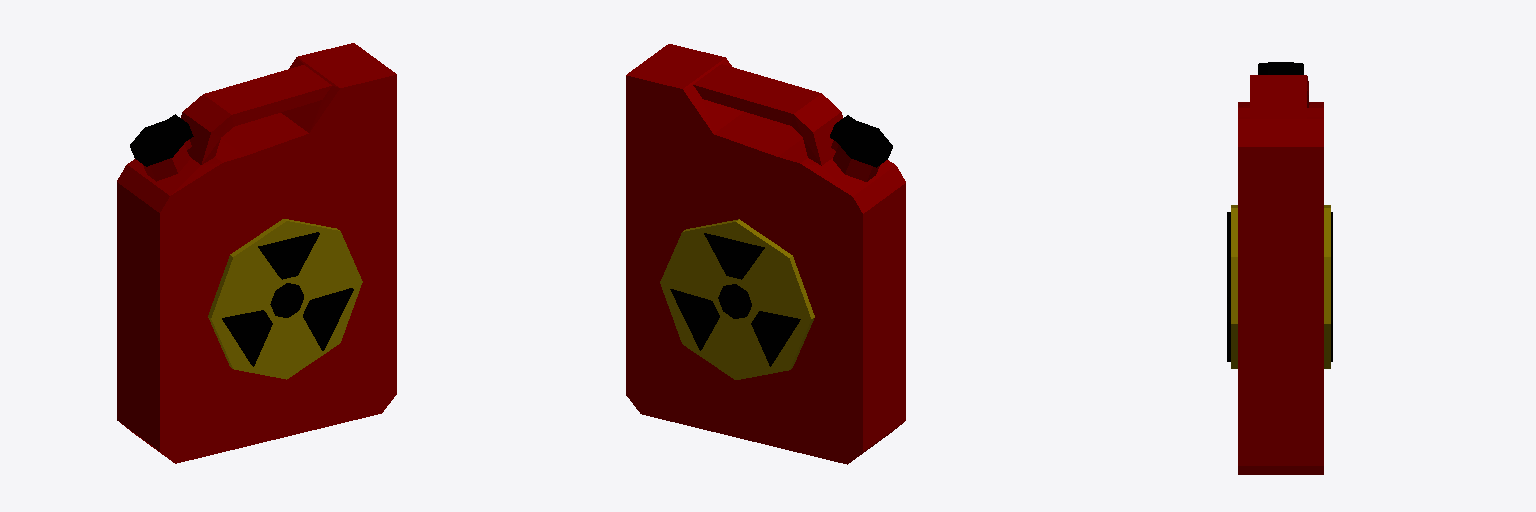
The model's file is kanister.obj.
3 renders of one model, left to right at view 1: azimuth 30°, elevation 25°; view 2: azimuth 150°, elevation 25°; view 3: azimuth 270°, elevation 25°, orthographic.
Visible parts, largest first — view 1: can; view 2: can; view 3: can.
Boxes of the visible parts, x1=… form: can: x1=117, y1=43, x2=396, y2=463; can: x1=626, y1=44, x2=905, y2=464; can: x1=1227, y1=62, x2=1332, y2=474.
Size of the model in its own units: 6.22 by 8.28 by 2.39.